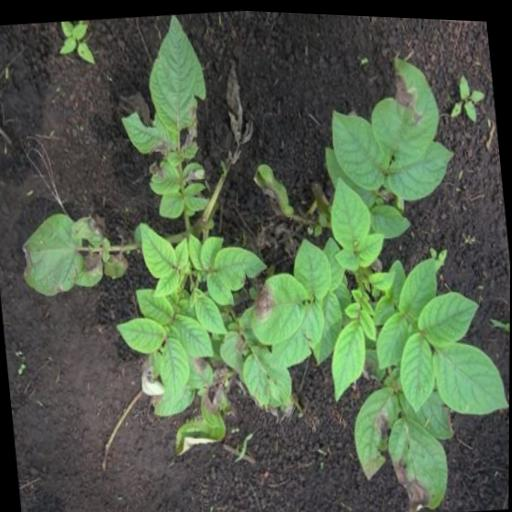Late Blight: (361, 45, 445, 167), (383, 402, 455, 512), (244, 264, 316, 351)
